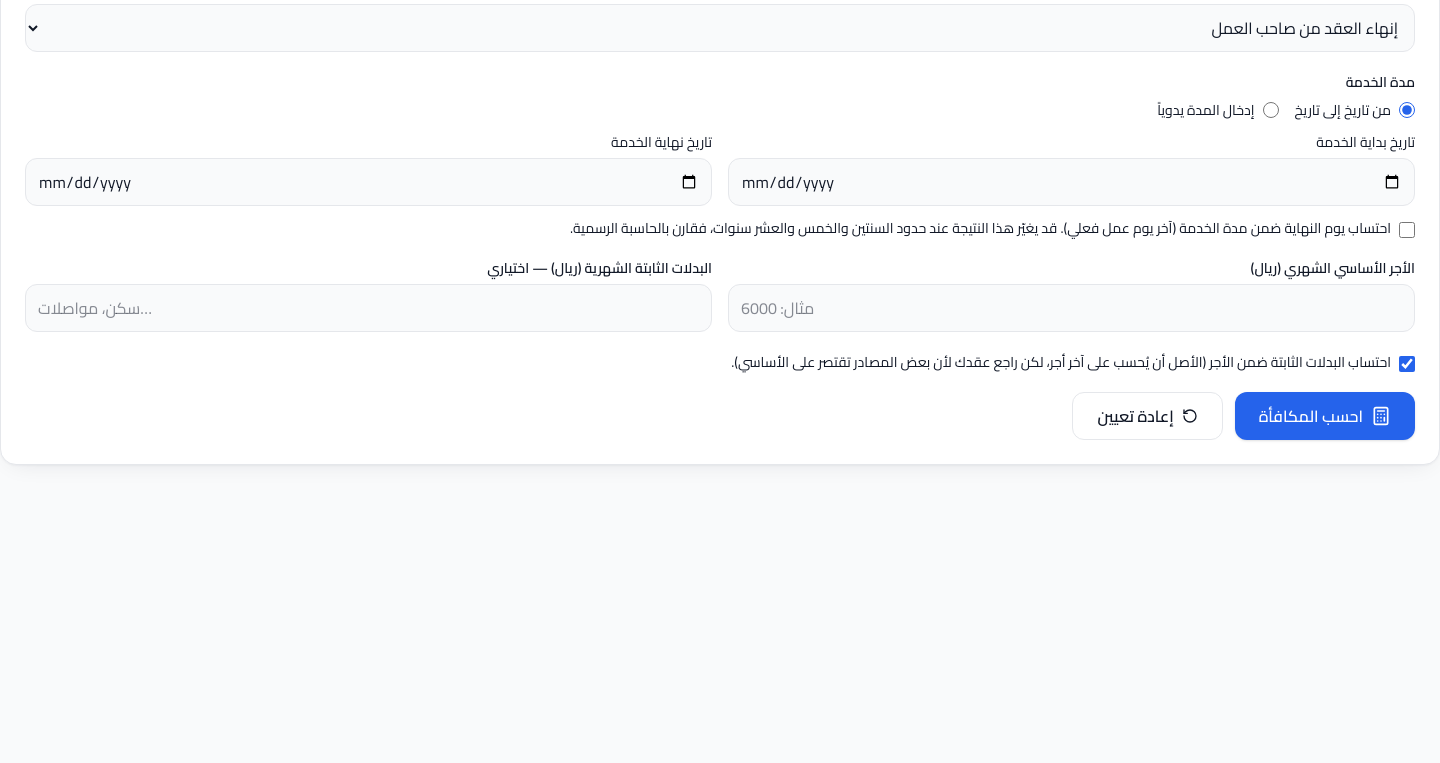
Test: EosCalculator › shows the result only after pressing calculate, and matches the hand calculation
Click the radio button labelled "إدخال المدة يدوياً".
click(1270, 110)  # box top-left (1262, 102), bottom-right (1278, 118)
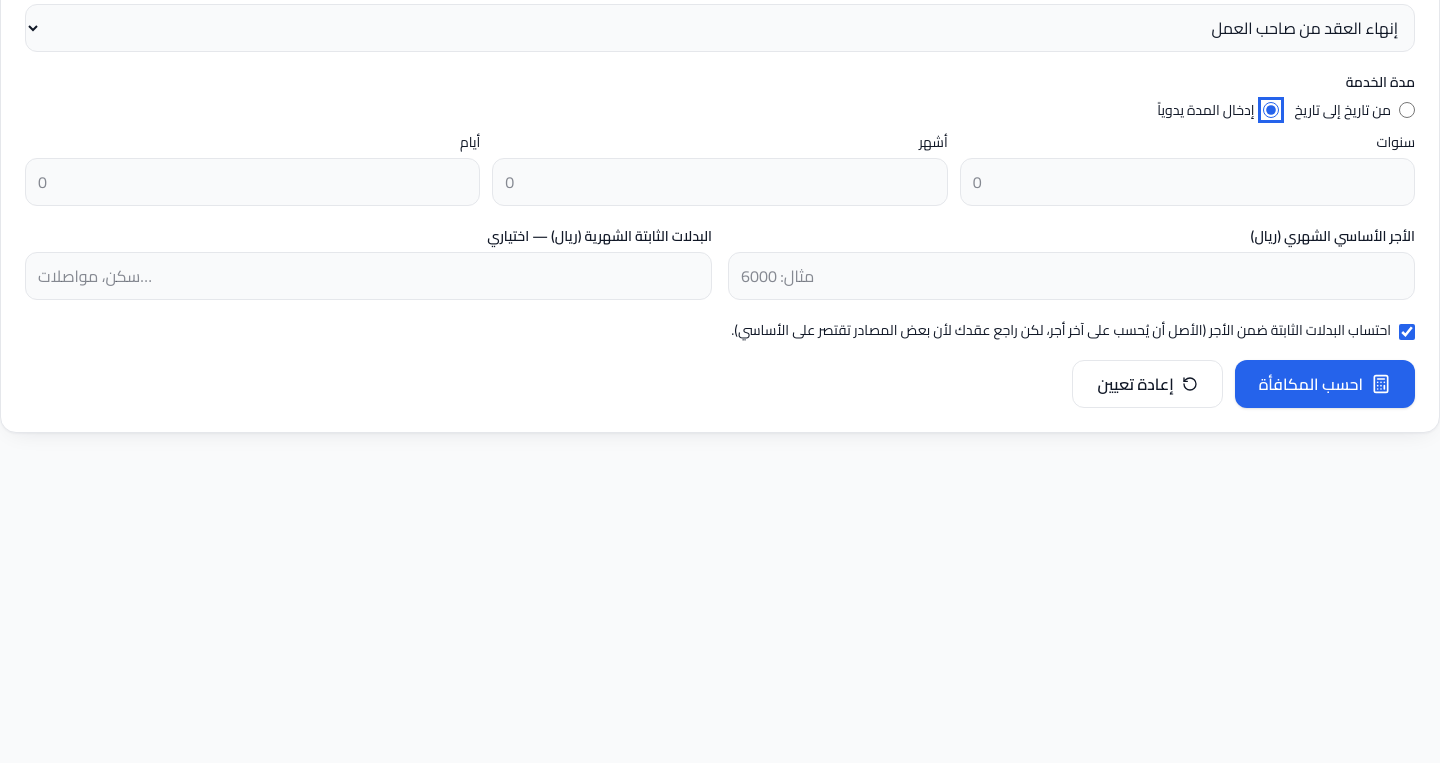
Type "8" into the field labelled "سنوات".
click(1187, 182); type("8")  # box top-left (960, 158), bottom-right (1415, 206)
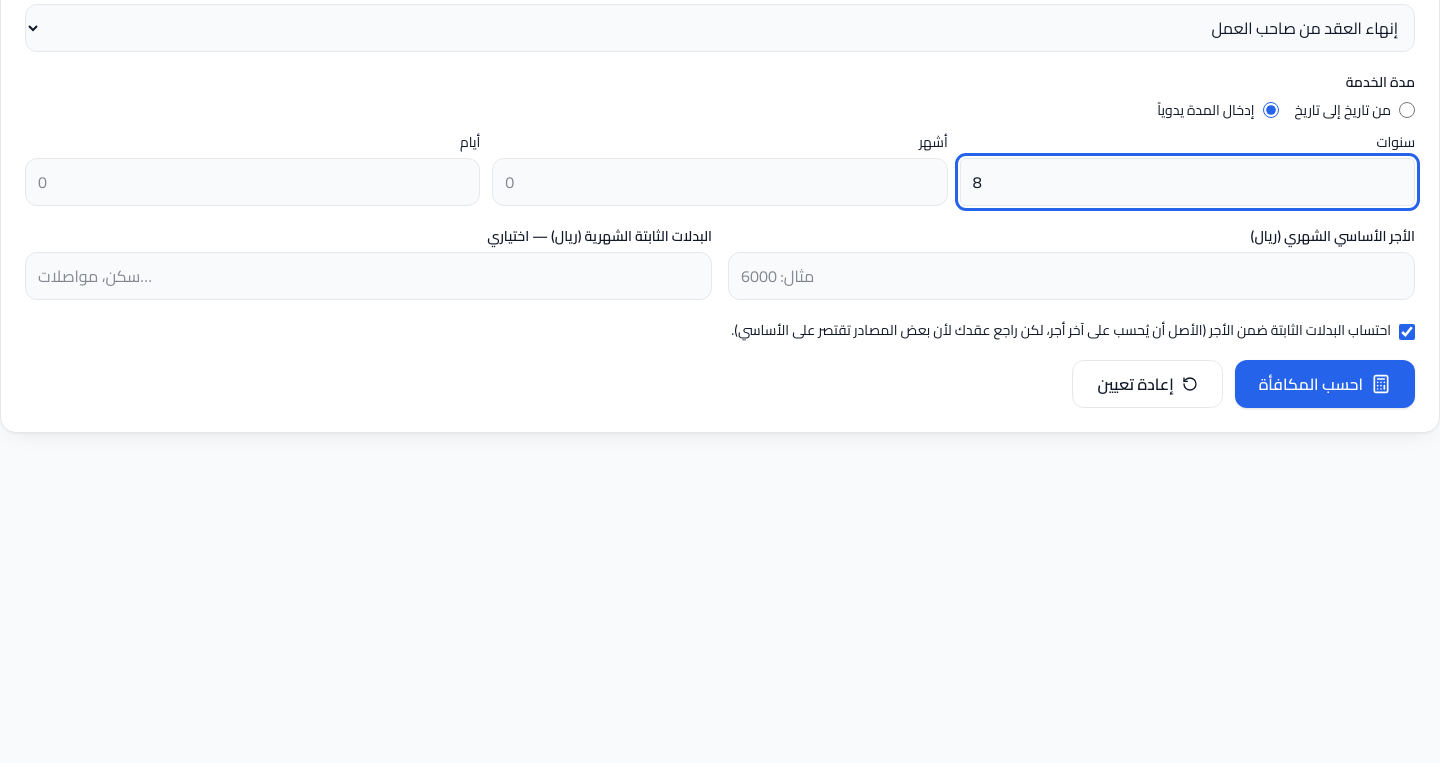
Type "7000" into the field labelled "الأجر الأساسي الشهري (ريال)".
click(1072, 276); type("7000")  # box top-left (728, 252), bottom-right (1415, 300)
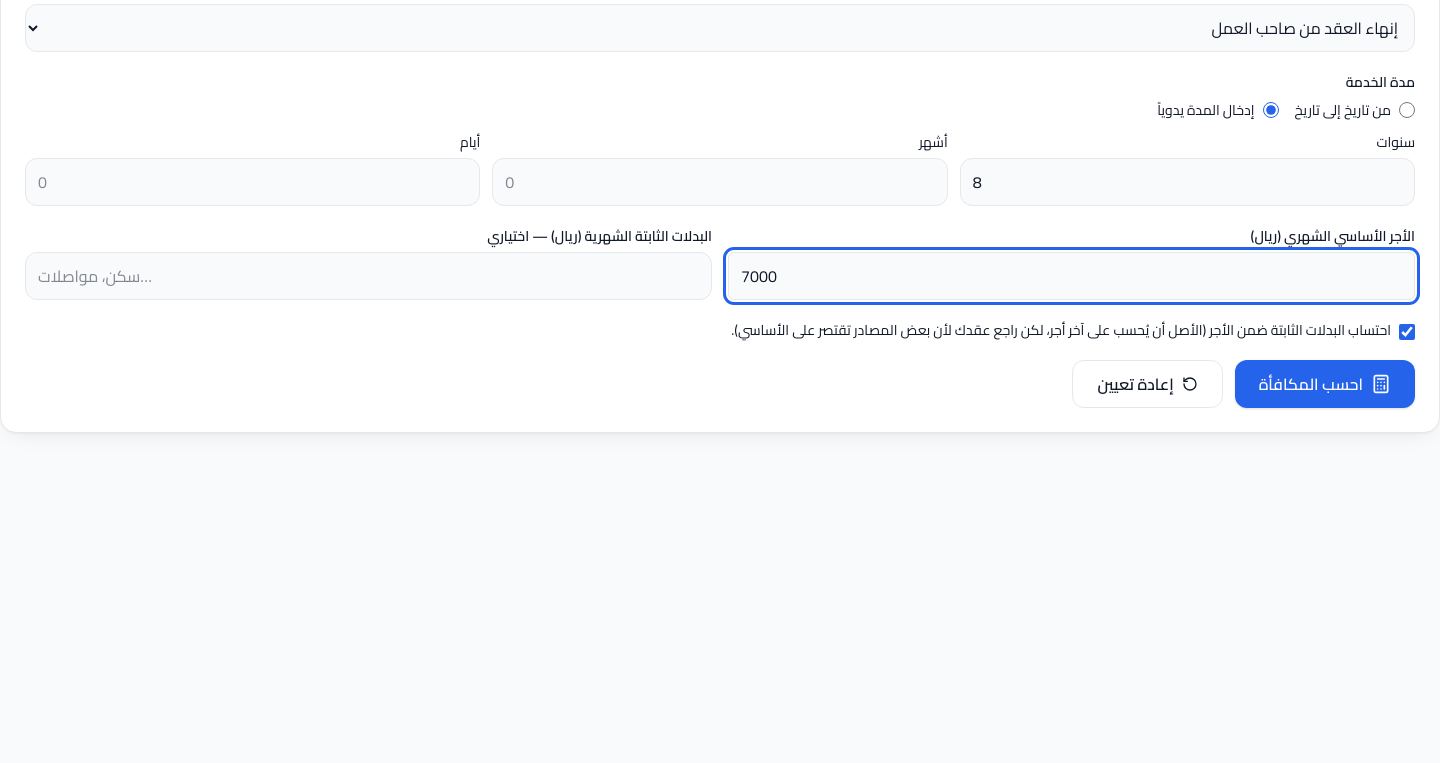
Click the button "احسب المكافأة".
click(1325, 384)  # box top-left (1235, 360), bottom-right (1415, 408)
(page scrolled)
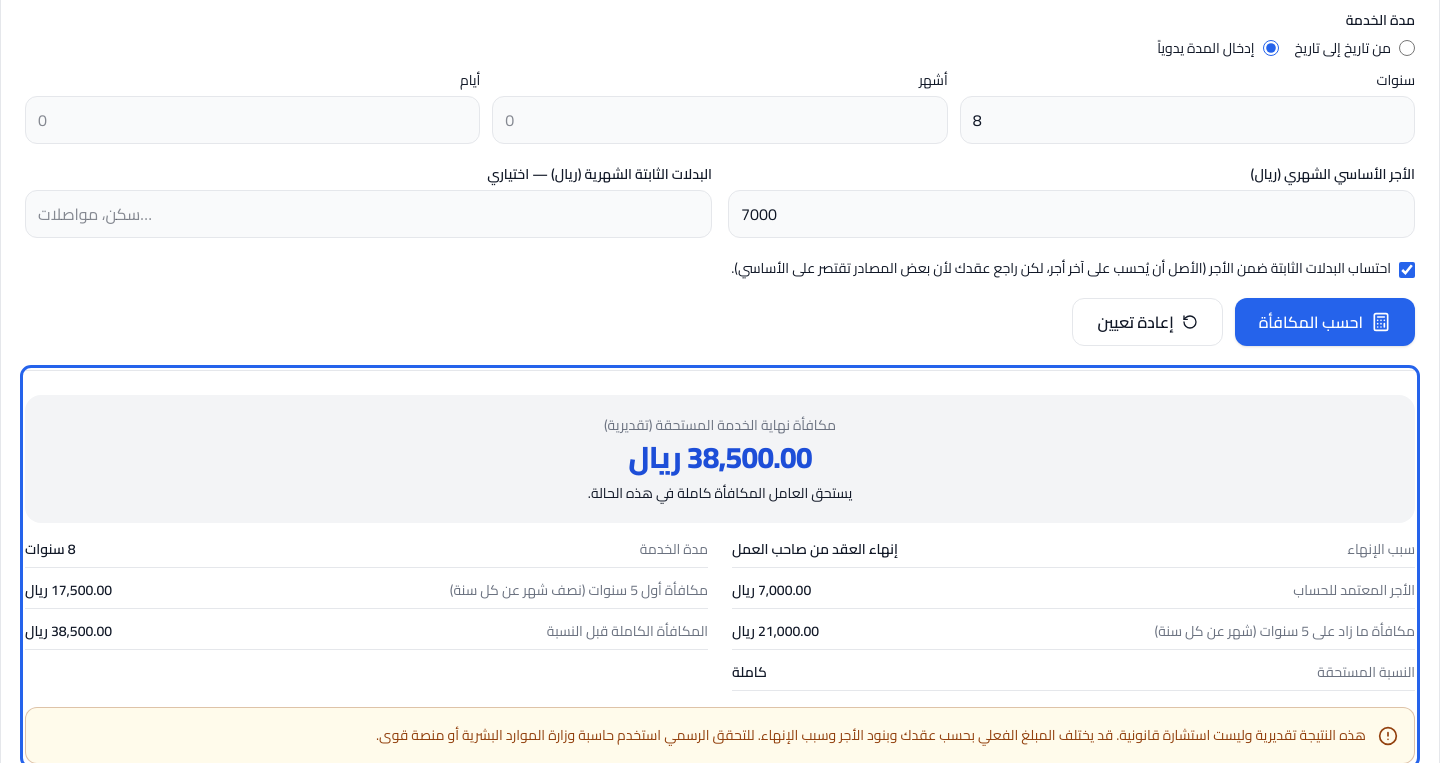
Check: the text with test id "eos-total" reads "38,500.00 ريال", box top-left (628, 429), bottom-right (812, 485)
Check: the text "17,500.00 ريال" is shown, box top-left (25, 580), bottom-right (112, 600)
Check: the text "21,000.00 ريال" is shown, box top-left (732, 621), bottom-right (819, 641)
